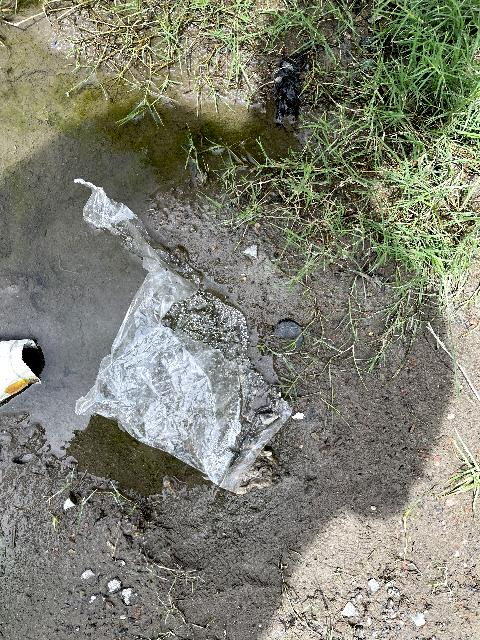polythene: (81, 198, 296, 482)
